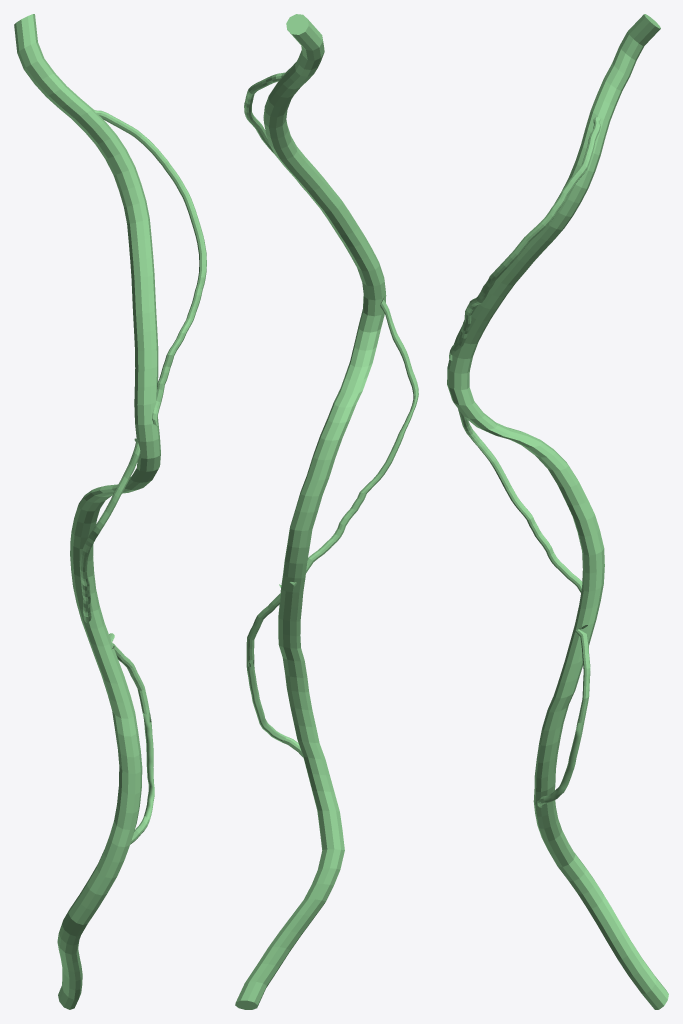
File: VinesA.fbx
3 renders of one model, left to right at view 1: azimuth 30°, elevation 25°; view 2: azimuth 150°, elevation 25°; view 3: azimuth 270°, elevation 25°, orthographic. The views are drawn at different scales.
Parts seen in each view (by area): view 1: group_1889463544, group_1600892788, group_1328553575, group_116050819; view 2: group_1889463544, group_116050819, group_1328553575, group_1600892788; view 3: group_1889463544, group_1600892788, group_116050819, group_1328553575.
Boxes of the visible parts, x1=… form: group_1889463544: x1=14, y1=14, x2=160, y2=1009; group_1600892788: x1=94, y1=110, x2=206, y2=426; group_1328553575: x1=109, y1=633, x2=154, y2=844; group_116050819: x1=80, y1=438, x2=140, y2=622; group_1889463544: x1=235, y1=14, x2=386, y2=1009; group_116050819: x1=290, y1=298, x2=418, y2=586; group_1328553575: x1=246, y1=584, x2=303, y2=757; group_1600892788: x1=244, y1=72, x2=305, y2=190; group_1889463544: x1=447, y1=14, x2=668, y2=1009; group_1600892788: x1=449, y1=116, x2=600, y2=360; group_116050819: x1=458, y1=409, x2=582, y2=592; group_1328553575: x1=537, y1=625, x2=590, y2=807.
Size of the model in its own units: 0.1986 by 1.42 by 0.2938.
